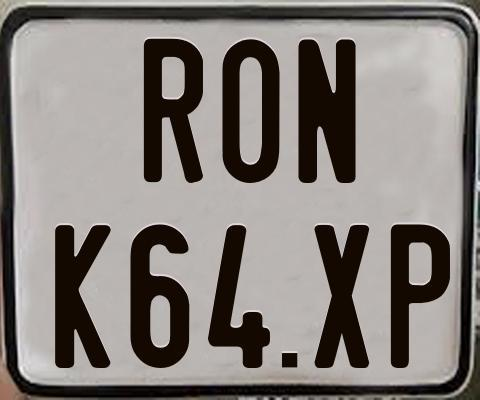0: (220, 39, 283, 184)
4: (205, 223, 272, 369)
6: (128, 221, 188, 367)
K: (54, 225, 116, 368)
N: (296, 37, 359, 185)
P: (391, 221, 451, 368)
R: (144, 36, 203, 183)
X: (312, 222, 369, 369)
